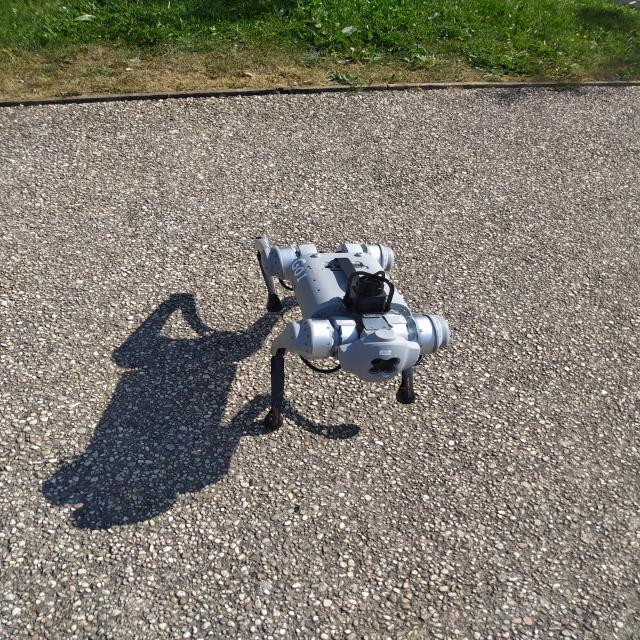unitree-go1-robot: (240, 219, 450, 438)
